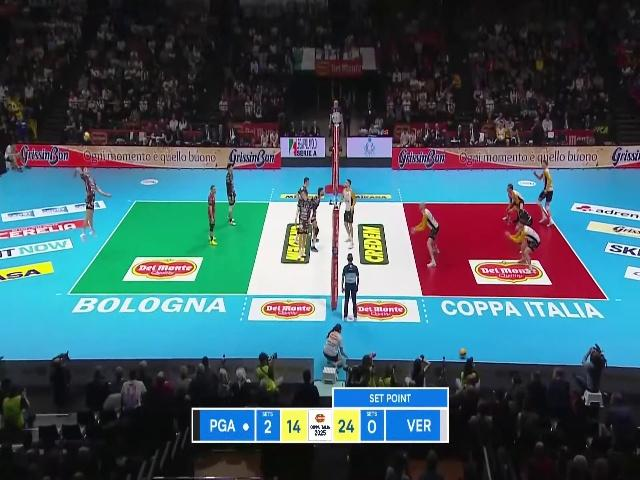volleyball court: (66, 201, 610, 300)
